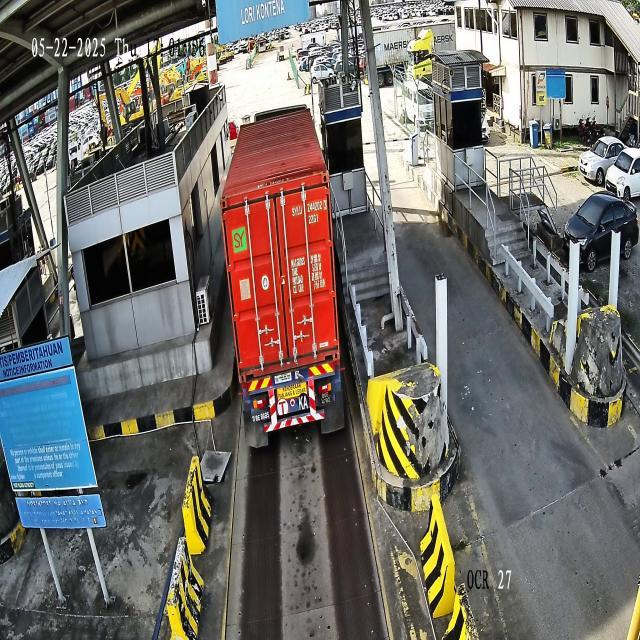ISO: (308, 213, 320, 225)
container_number: (291, 198, 328, 218)
